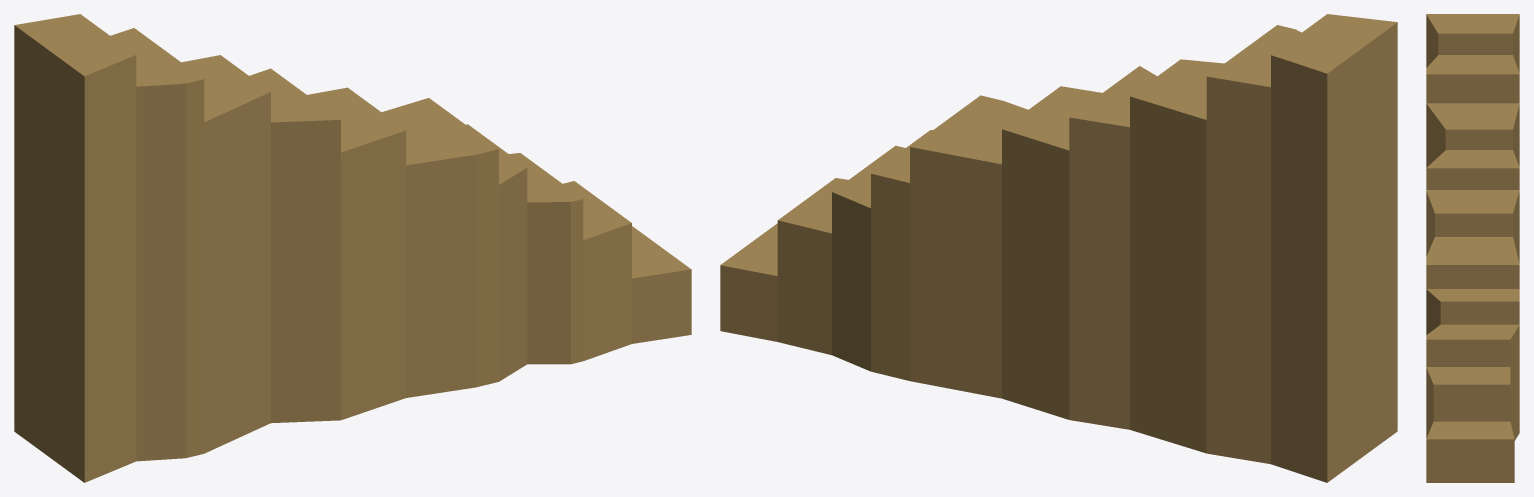
The model's file is Terrain_Modular_Tiles_Dirt_Stairs_01.fbx.
The picture shows the model from 3 angles, left to right: view 1: azimuth 30°, elevation 25°; view 2: azimuth 150°, elevation 25°; view 3: azimuth 270°, elevation 25°; orthographic projection. The views are drawn at different scales.
Parts seen in each view (by area): view 1: Terrain_Modular_Tiles_Dirt_Stairs_01; view 2: Terrain_Modular_Tiles_Dirt_Stairs_01; view 3: Terrain_Modular_Tiles_Dirt_Stairs_01.
Boxes of the visible parts, x1,y1,x2,y2 form: Terrain_Modular_Tiles_Dirt_Stairs_01: (14,14,691,482); Terrain_Modular_Tiles_Dirt_Stairs_01: (720,14,1397,482); Terrain_Modular_Tiles_Dirt_Stairs_01: (1426,14,1519,482).
Bounding box in the file's own units: 3750 × 2400 × 750.
